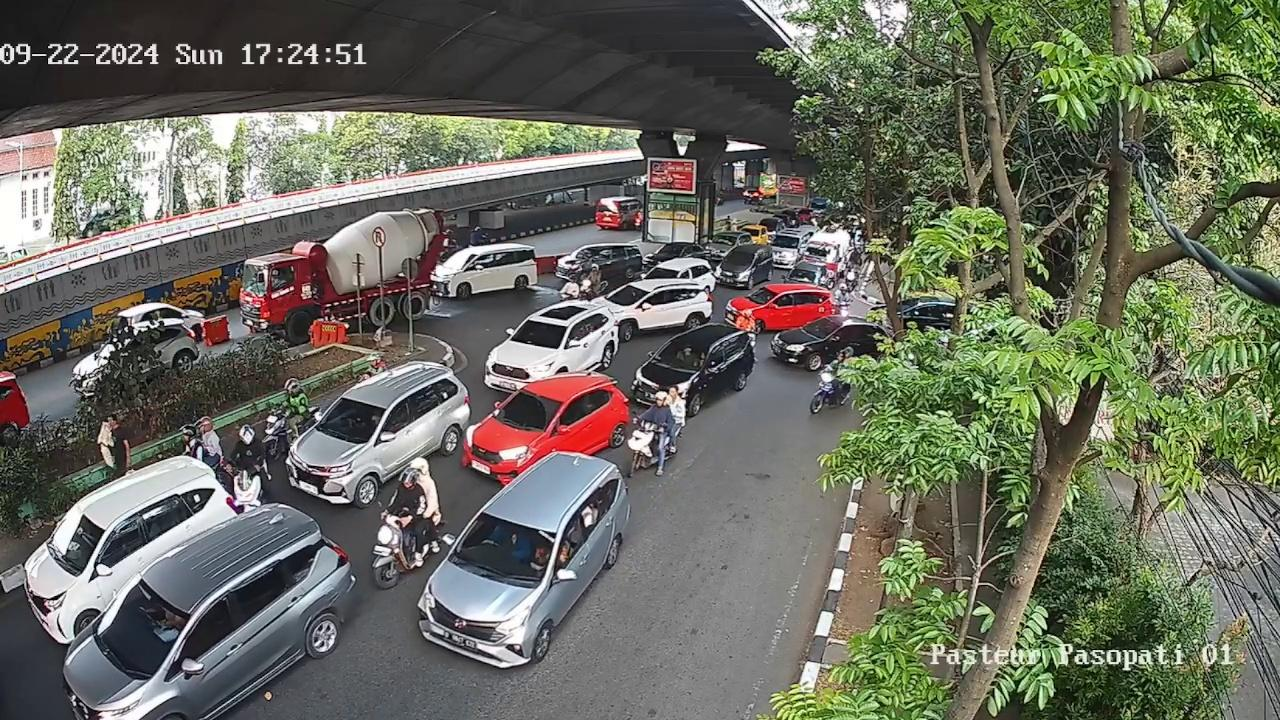tidak-pakai: (477, 523, 532, 565)
windshield: (449, 515, 563, 592), (100, 580, 185, 661), (47, 507, 108, 569), (315, 400, 385, 447), (496, 389, 562, 433), (652, 336, 710, 370), (509, 319, 572, 348)
